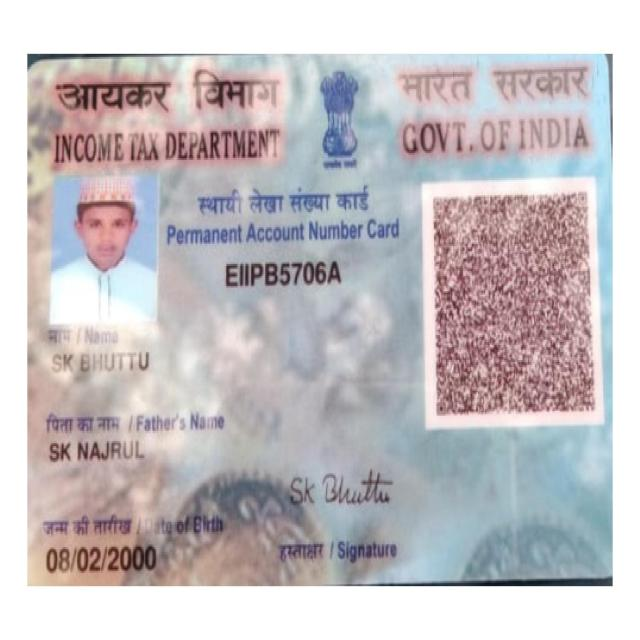pan_card: (28, 58, 609, 588)
